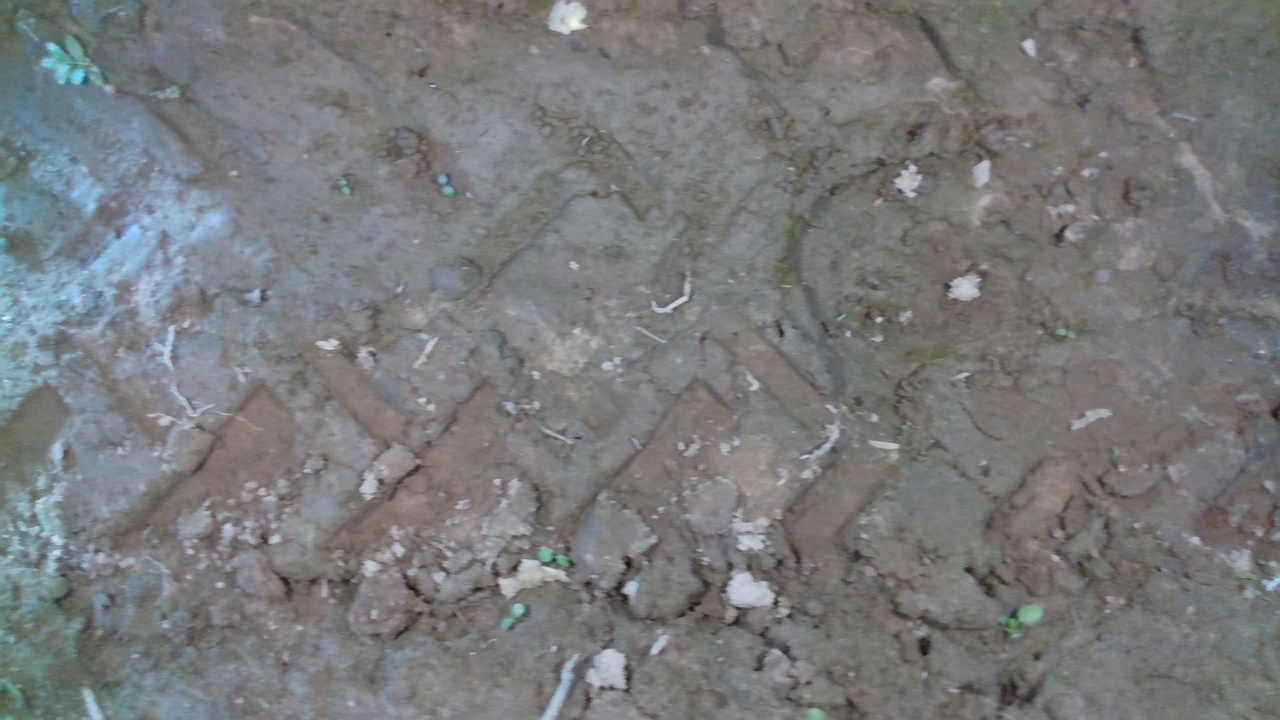weed: (498, 600, 526, 632), (436, 172, 456, 197), (336, 175, 352, 199), (1055, 327, 1078, 340)
